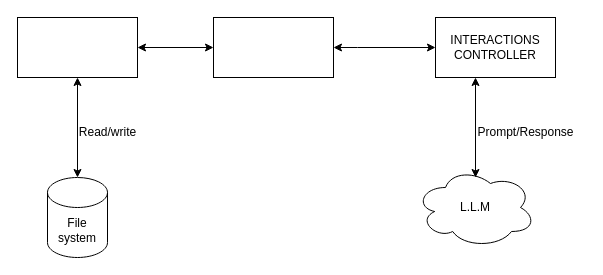
Some shapes in this 603 by 275 pixel diagram are drawn without their labels. Each missing label, with the centre of its shape:
"Workflow Controller" goes at (273,47).
"Workspace" goes at (77,47).
